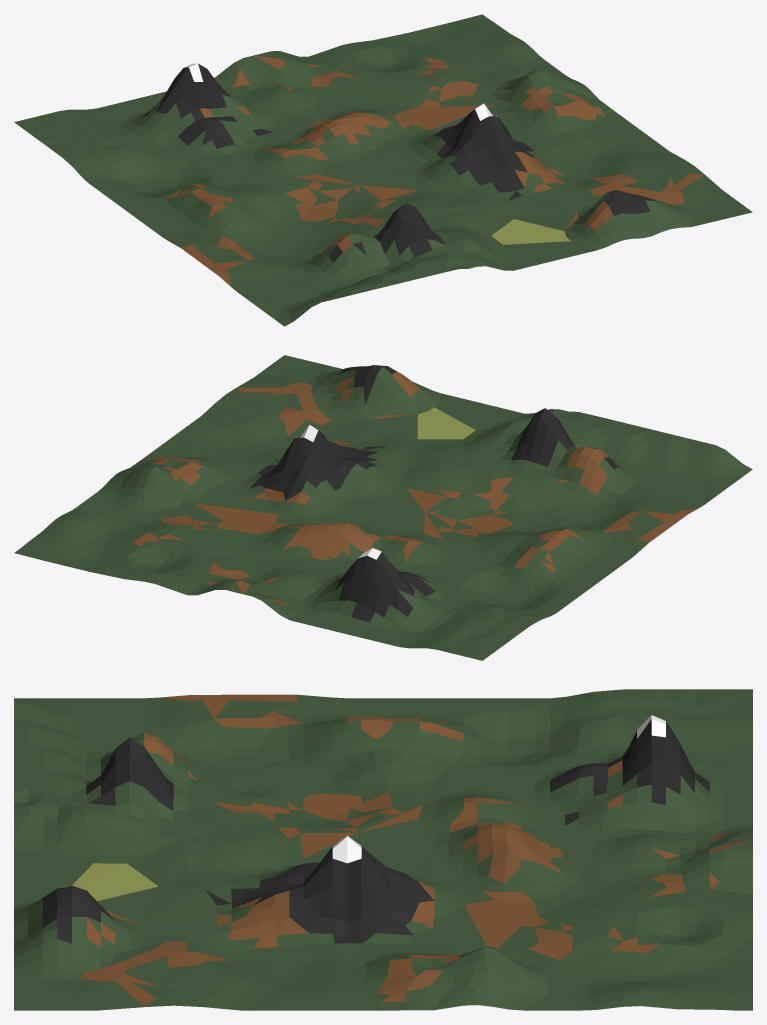
Rendered from terrainbig.fbx.
The picture shows the model from 3 angles, top to bottom: view 1: azimuth 30°, elevation 25°; view 2: azimuth 150°, elevation 25°; view 3: azimuth 270°, elevation 25°; orthographic projection. The views are drawn at different scales.
Parts seen in each view (by area): view 1: Prostokąt; view 2: Prostokąt; view 3: Prostokąt.
Part boxes in pixels (x1=…): Prostokąt: x1=14, y1=14, x2=752, y2=326; Prostokąt: x1=14, y1=355, x2=752, y2=660; Prostokąt: x1=14, y1=689, x2=752, y2=1010.
Bounding box in the file's own units: 90283 × 11942 × 90278.
